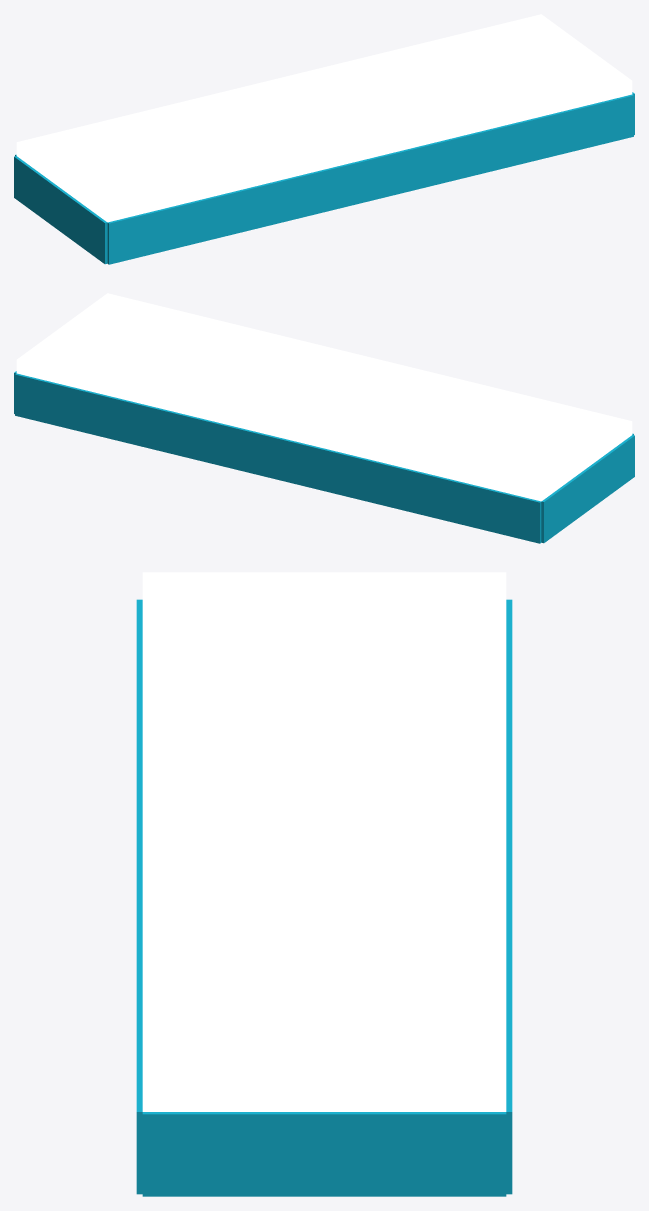
File: Lamp.fbx
The picture shows the model from 3 angles, top to bottom: view 1: azimuth 30°, elevation 25°; view 2: azimuth 150°, elevation 25°; view 3: azimuth 270°, elevation 25°; orthographic projection. The views are drawn at different scales.
Parts seen in each view (by area): view 1: Cube; view 2: Cube; view 3: Cube.
Part boxes in pixels (x1,y1,x2,y2): Cube: (14,14,634,264); Cube: (14,293,634,543); Cube: (136,572,512,1196).
Bounding box in the file's own units: 202 × 20 × 62.
